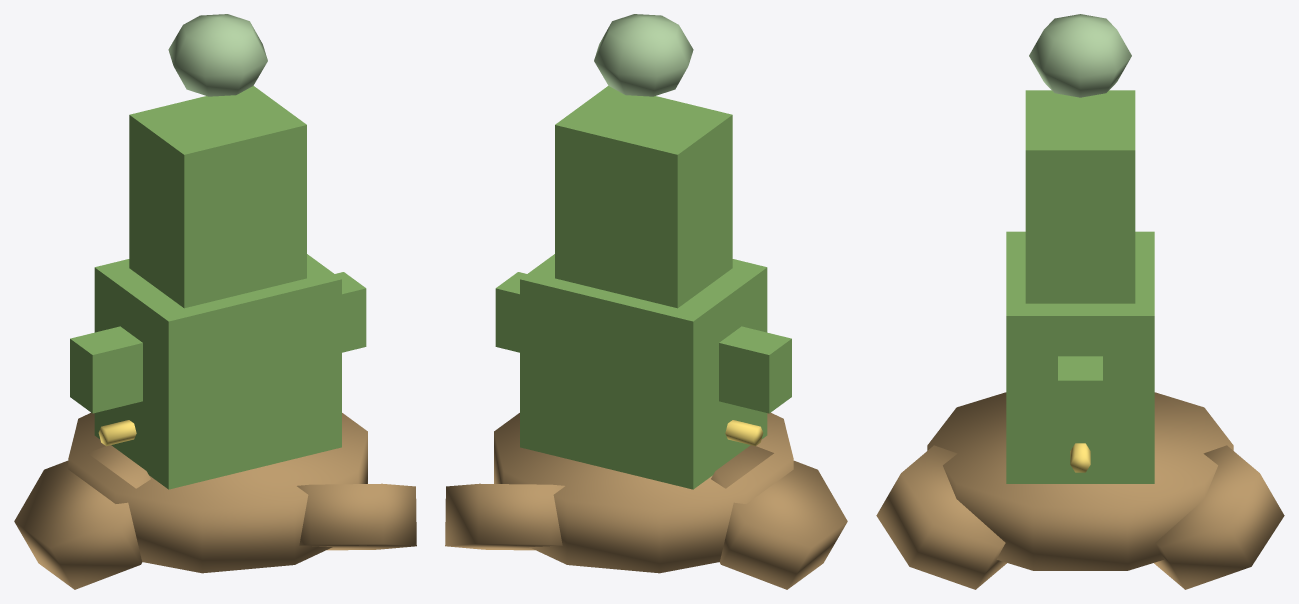
File: dune_cactus_young.fbx
3 views of the same model, side by side, from view 1: azimuth 30°, elevation 25°; view 2: azimuth 150°, elevation 25°; view 3: azimuth 270°, elevation 25° (orthographic).
Parts seen in each view (by area): view 1: PLQ_dune_cactus_young; view 2: PLQ_dune_cactus_young; view 3: PLQ_dune_cactus_young.
Boxes of the visible parts, x1=… form: PLQ_dune_cactus_young: x1=14, y1=14, x2=416, y2=589; PLQ_dune_cactus_young: x1=445, y1=14, x2=847, y2=589; PLQ_dune_cactus_young: x1=876, y1=14, x2=1284, y2=589.
Size of the model in its own units: 27.71 by 42.62 by 30.36.
